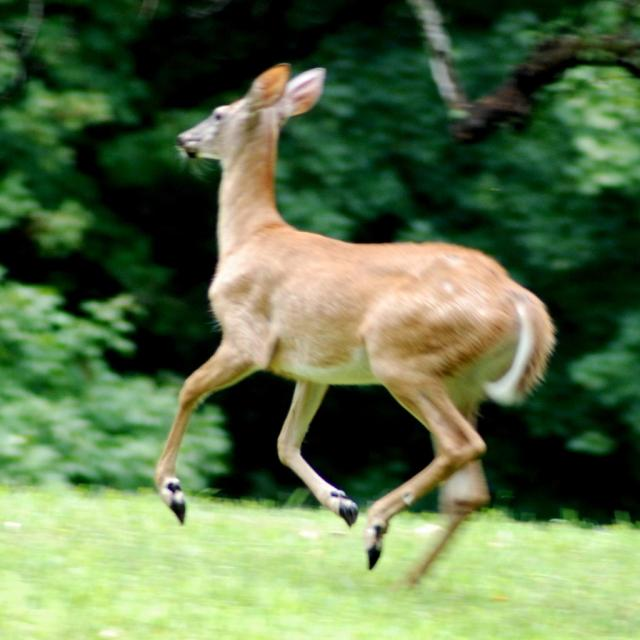Deer: (154, 60, 554, 587)
